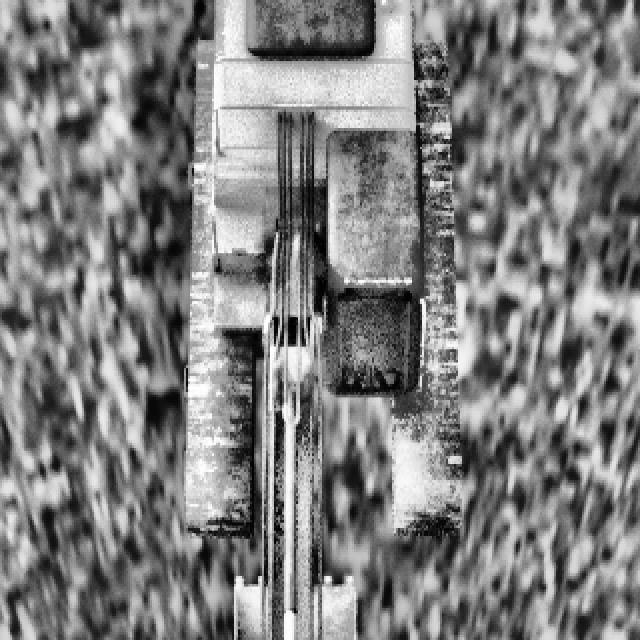excavator: (182, 0, 460, 640)
